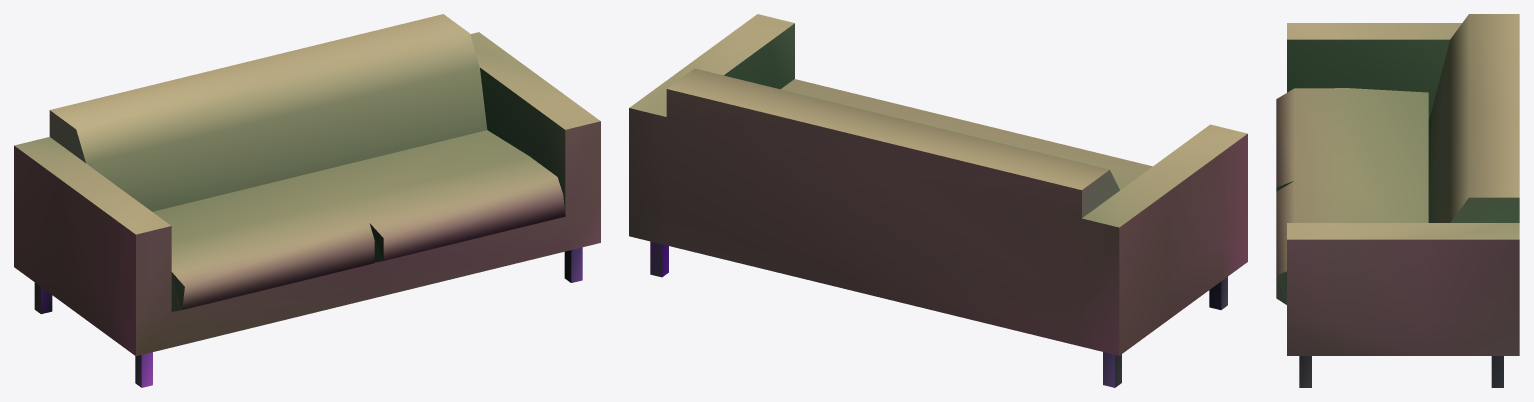
Rendered from white_couch.FBX.
The picture shows the model from 3 angles, left to right: view 1: azimuth 30°, elevation 25°; view 2: azimuth 150°, elevation 25°; view 3: azimuth 270°, elevation 25°; orthographic projection. The views are drawn at different scales.
Visible parts, largest first — view 1: white couch; view 2: white couch; view 3: white couch.
Boxes of the visible parts, left/top/right/bottom form: white couch: left=14, top=14, right=600, bottom=387; white couch: left=629, top=14, right=1247, bottom=387; white couch: left=1276, top=14, right=1519, bottom=387.
Bounding box in the file's own units: 2.05 × 0.7912 × 0.973.
